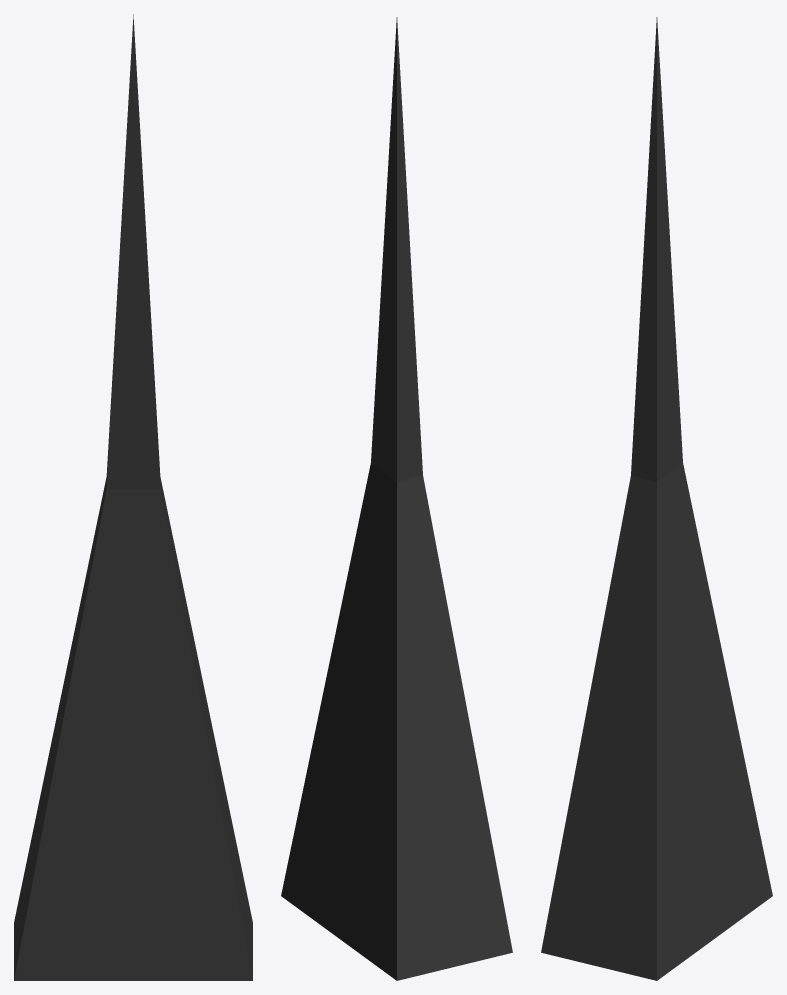
File: Stal_1B_LOD.fbx
3 views of the same model, side by side, from view 1: azimuth 30°, elevation 25°; view 2: azimuth 150°, elevation 25°; view 3: azimuth 270°, elevation 25° (orthographic). The views are drawn at different scales.
Visible parts, largest first — view 1: pCone40; view 2: pCone40; view 3: pCone40.
Part boxes in pixels (left/top/right/bottom): pCone40: left=14, top=14, right=252, bottom=980; pCone40: left=281, top=17, right=512, bottom=980; pCone40: left=541, top=17, right=772, bottom=980.
Size of the model in its own units: 0.4 by 1.5 by 0.3464.
